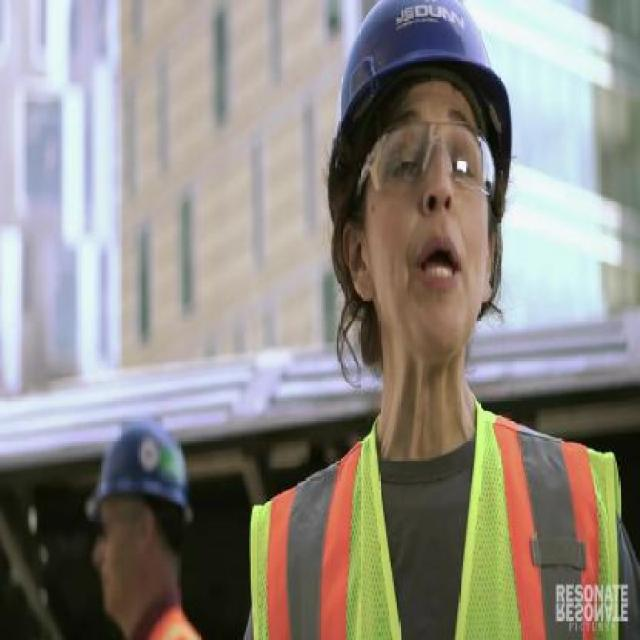Vest: (243, 397, 625, 638)
helmet: (327, 0, 514, 218), (83, 416, 194, 516)
person: (231, 1, 640, 638), (65, 403, 215, 640)
